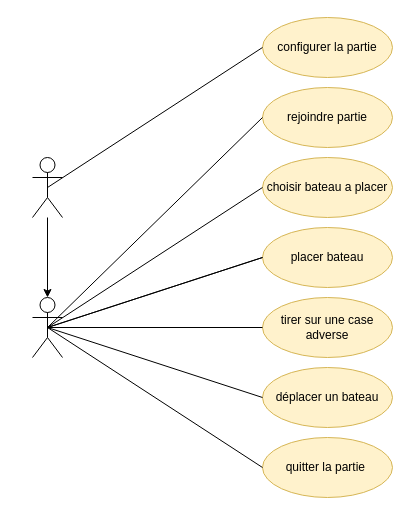
Image size: 410x515. Some labels were removed from this diagram. The shapes that lost their labels are listed below. From the top down, each one's centre as x and y in pixels, then its label:
At (x=47, y=187): "Joueur 1".
At (x=47, y=327): "Joueur 2/IA".
